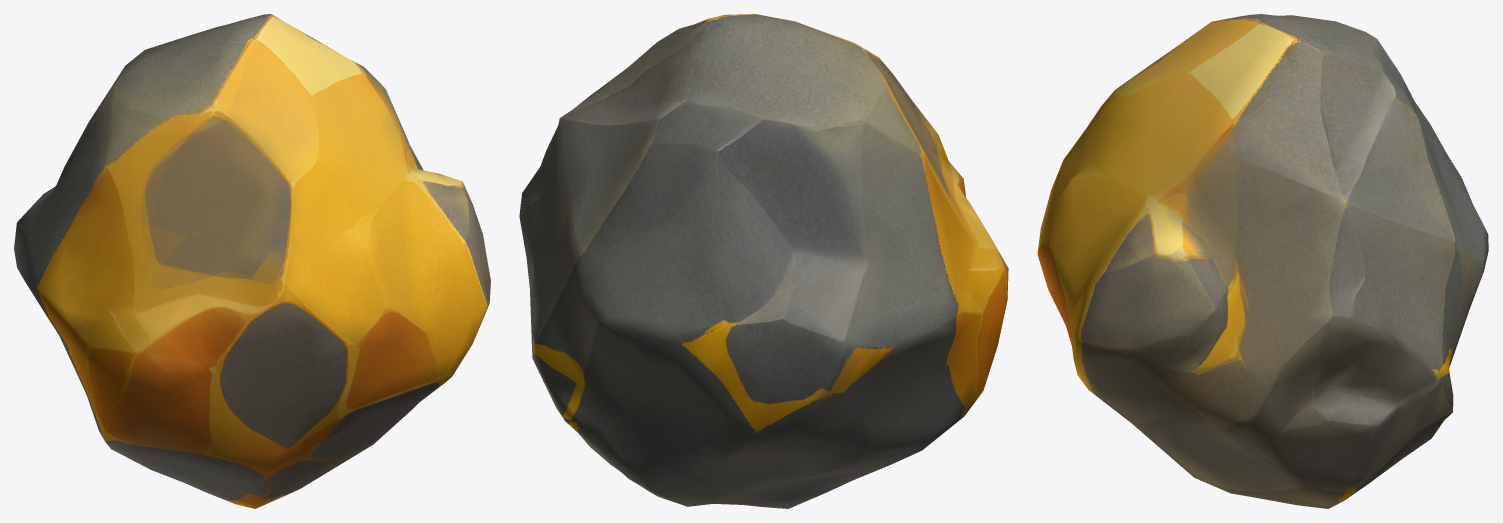
File: OreChunkGold.glb
3 views of the same model, side by side, from view 1: azimuth 30°, elevation 25°; view 2: azimuth 150°, elevation 25°; view 3: azimuth 270°, elevation 25° (orthographic). The views are drawn at different scales.
Parts seen in each view (by area): view 1: texture_mapping; view 2: texture_mapping; view 3: texture_mapping.
Boxes of the visible parts, bbox=[...] form: texture_mapping: bbox=[14, 14, 490, 508]; texture_mapping: bbox=[519, 14, 1008, 508]; texture_mapping: bbox=[1037, 14, 1488, 508].
Size of the model in its own units: 0.9229 by 1 by 0.8781.
1 material, 1 textured.
